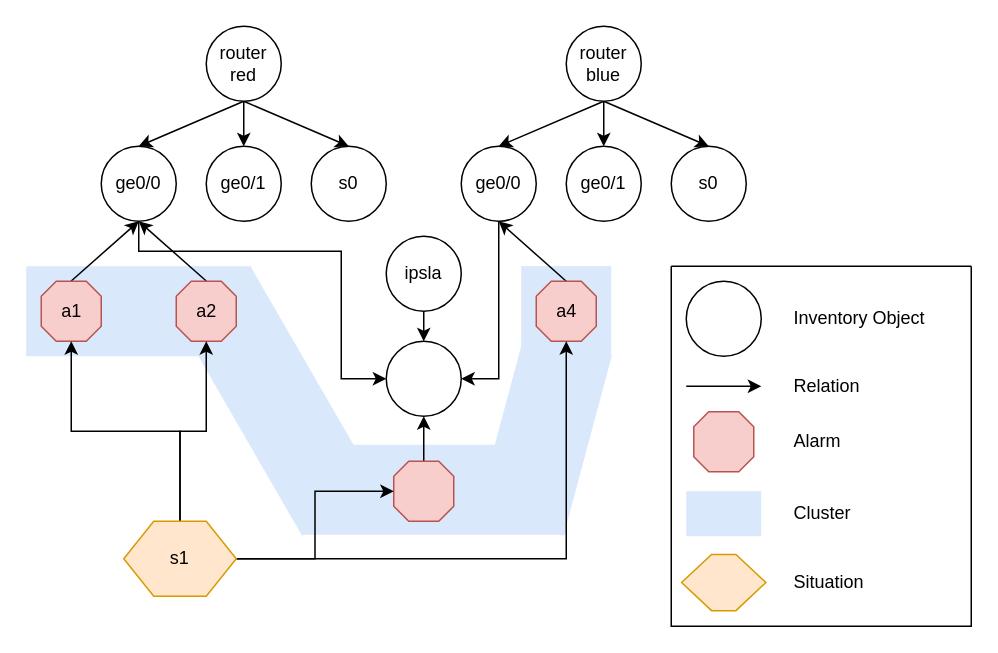
The diagram is 998 pixels wide and 653 high, and some of its shapes have lost their labels. Each missing label, with the centre of its shape:
a3: (x=423, y=490)
link: (x=423, y=378)
